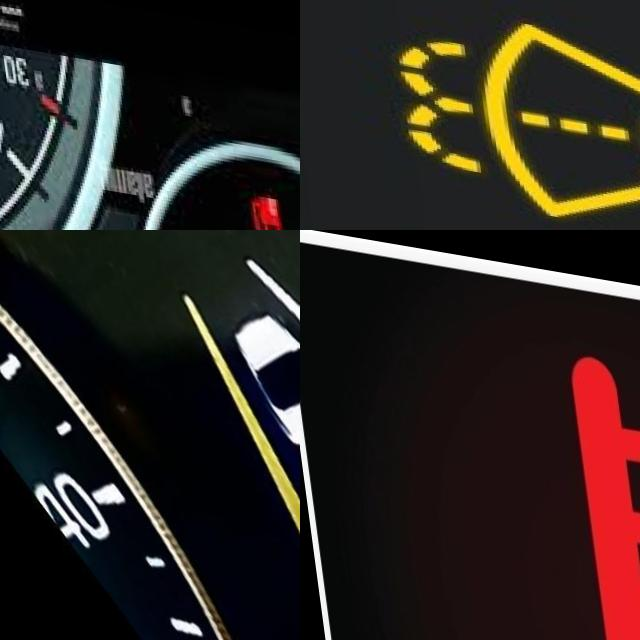Engine cooling system: (398, 318, 640, 640)
Washer Fluid: (382, 0, 640, 230)
